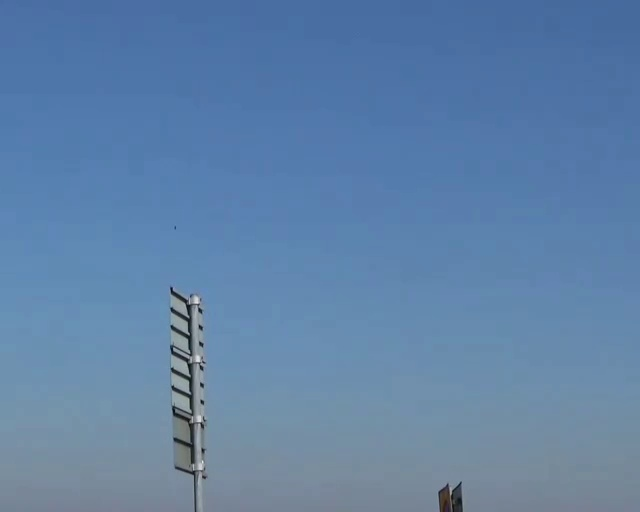BIRD: (170, 221, 181, 233)
